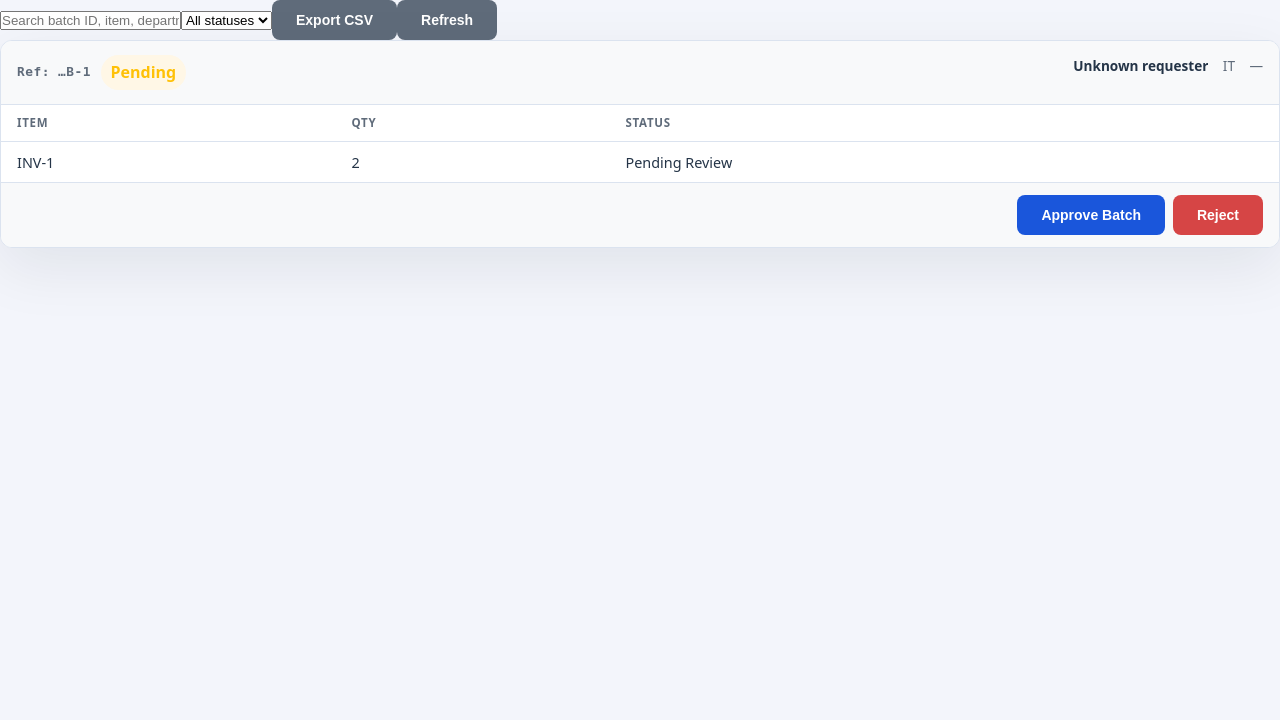
Test: RequisitionApproval › approves a batch after confirmation and refreshes the list
Click the button "Approve Batch". click: (1091, 215)
box: [1017,195,1165,235]
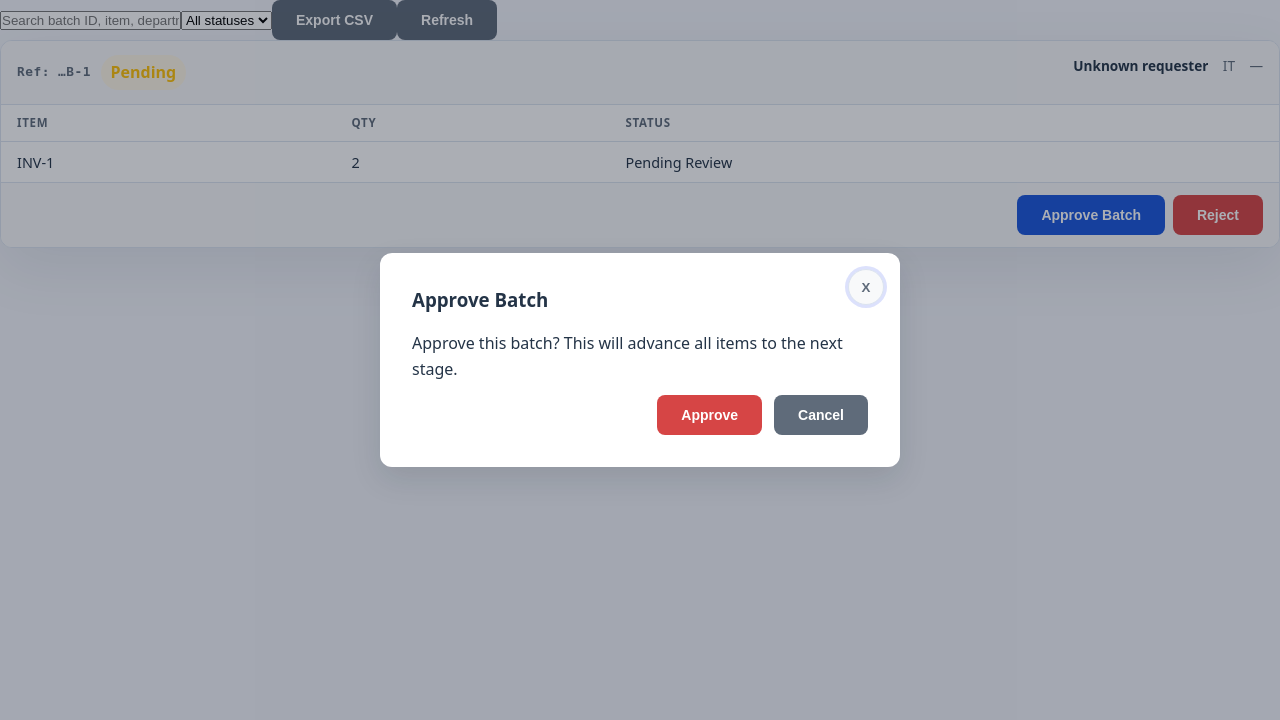
Click the button "Approve". click: (710, 415)
box: [657,395,762,435]
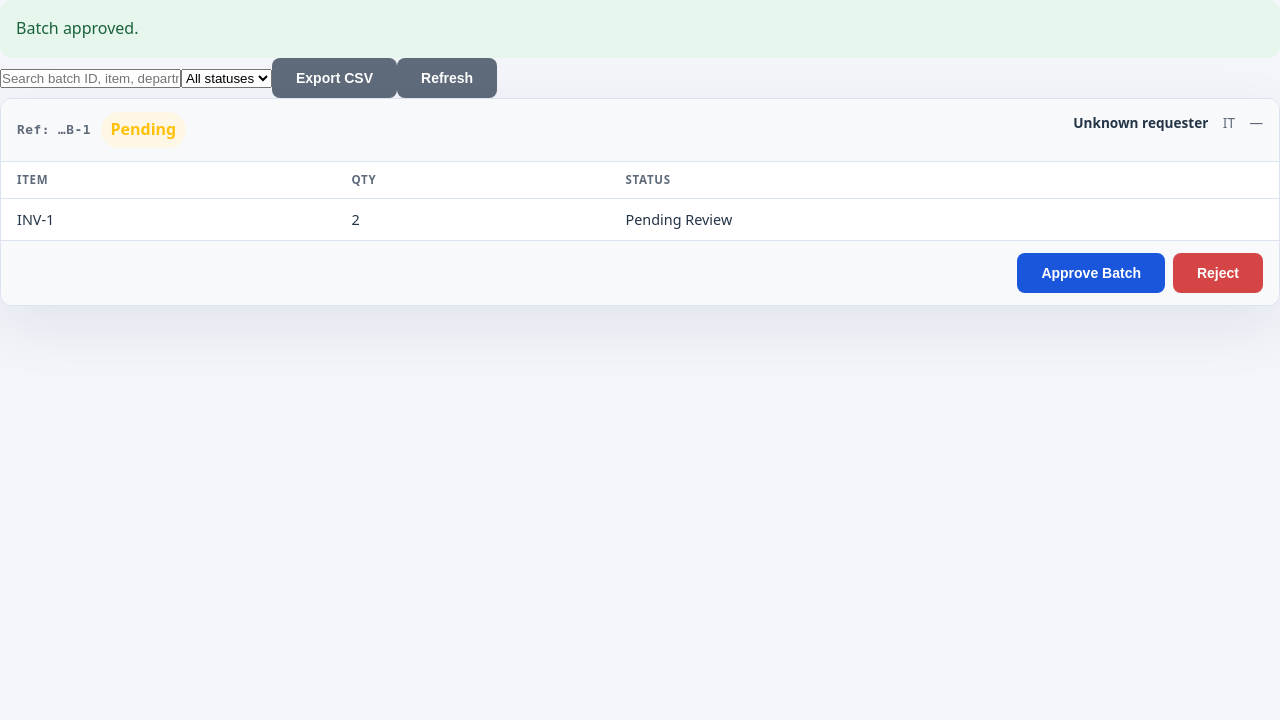
Expected: the text "Batch approved." is shown, [0,0,1279,58]
